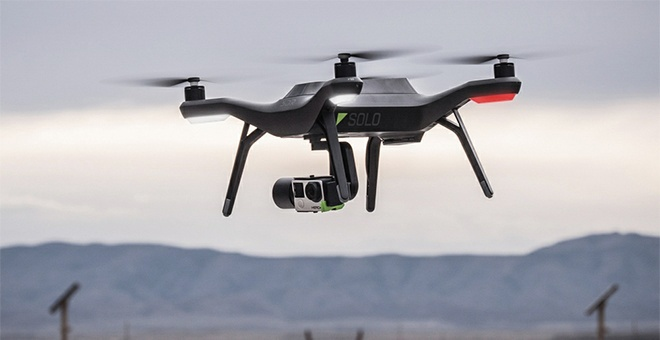DJI: (177, 52, 525, 221)
